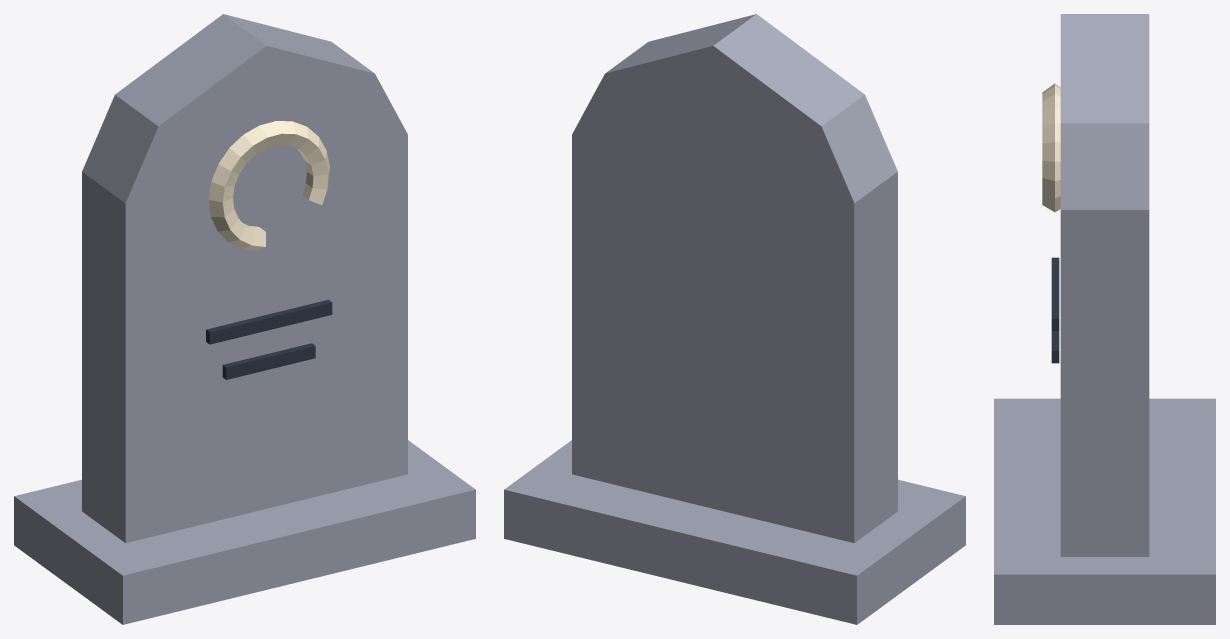
Rendered from gravestone.glb.
The picture shows the model from 3 angles, left to right: view 1: azimuth 30°, elevation 25°; view 2: azimuth 150°, elevation 25°; view 3: azimuth 270°, elevation 25°; orthographic projection. The views are drawn at different scales.
Parts seen in each view (by area): view 1: gravestone; view 2: gravestone; view 3: gravestone.
Part boxes in pixels (x1=…): gravestone: x1=14, y1=14, x2=475, y2=624; gravestone: x1=504, y1=14, x2=965, y2=624; gravestone: x1=994, y1=14, x2=1215, y2=624.
Size of the model in its own units: 0.75 by 1.04 by 0.3999.
